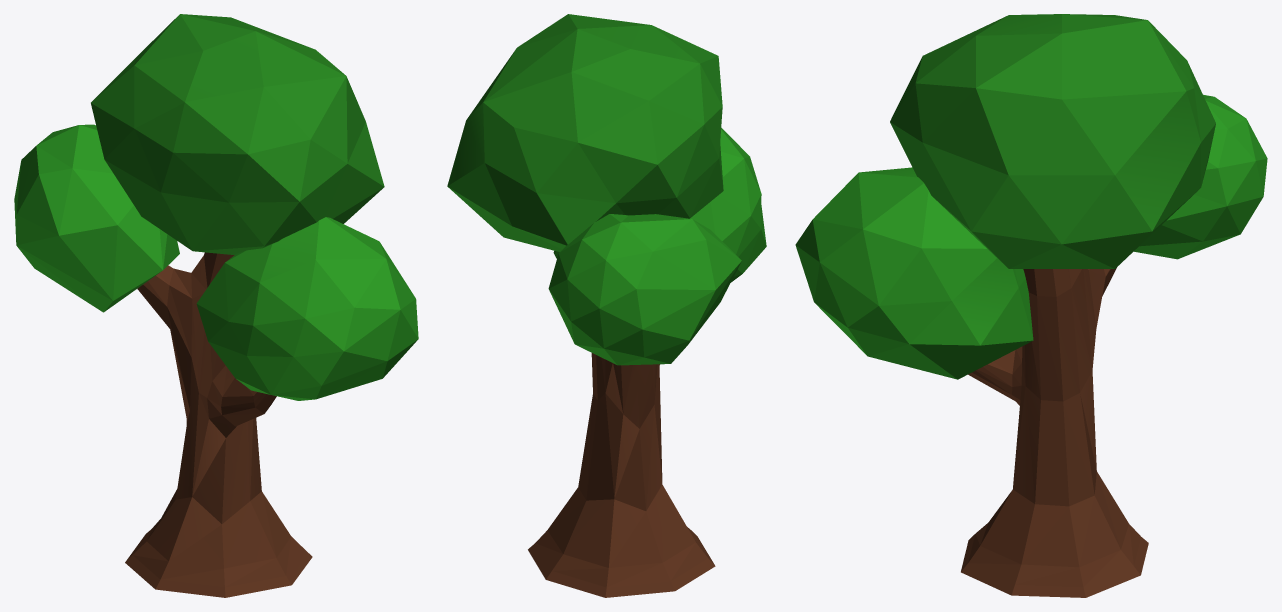
File: Tree3_v.1.5.fbx
3 views of the same model, side by side, from view 1: azimuth 30°, elevation 25°; view 2: azimuth 150°, elevation 25°; view 3: azimuth 270°, elevation 25° (orthographic). The views are drawn at different scales.
Visible parts, largest first — view 1: Tree3; view 2: Tree3; view 3: Tree3.
Part boxes in pixels (<box>): Tree3: <box>14,14,418,597</box>; Tree3: <box>447,14,766,597</box>; Tree3: <box>795,14,1267,597</box>.
Bounding box in the file's own units: 1015 × 1744 × 1361.
